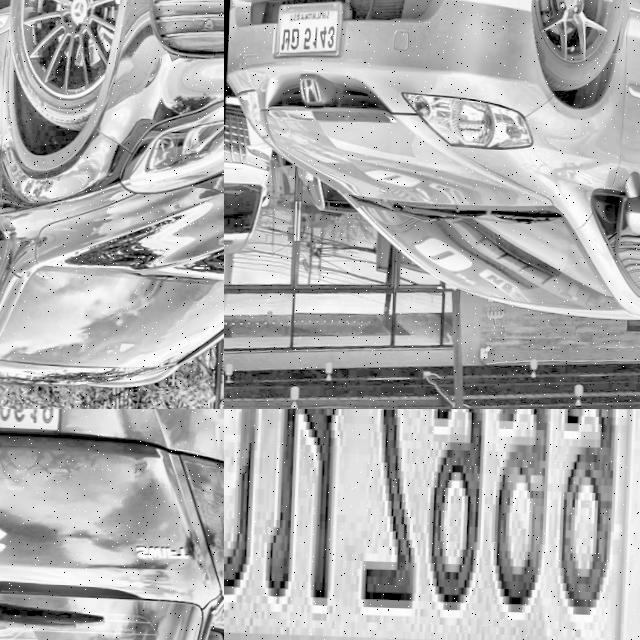license-plate: (224, 409, 640, 640), (266, 0, 350, 63)
